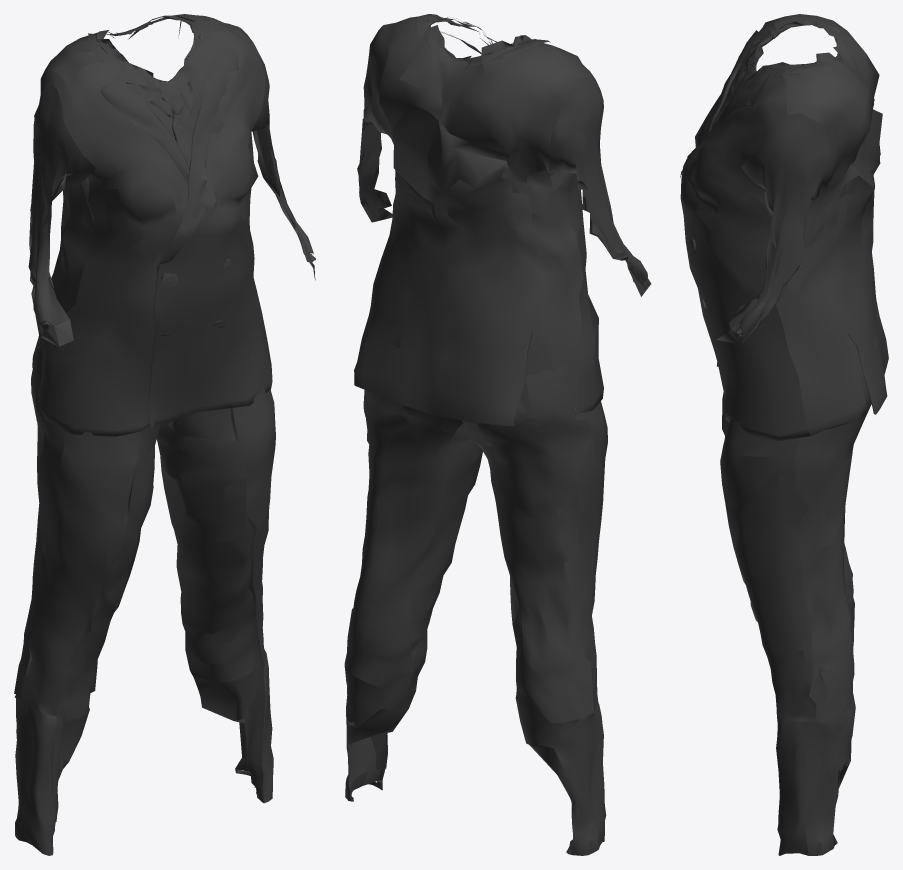
Rendered from cc_dbsuit.glb.
The picture shows the model from 3 angles, left to right: view 1: azimuth 30°, elevation 25°; view 2: azimuth 150°, elevation 25°; view 3: azimuth 270°, elevation 25°; orthographic projection. The views are drawn at different scales.
Visible parts, largest first — view 1: geometry_0; view 2: geometry_0; view 3: geometry_0.
Boxes of the visible parts, box(x1,y1,x2,y2) form: geometry_0: box(14, 14, 315, 855); geometry_0: box(344, 14, 651, 855); geometry_0: box(680, 14, 888, 855).
Size of the model in its own units: 0.2967 by 0.8137 by 0.2011.
1 material, 1 textured.
